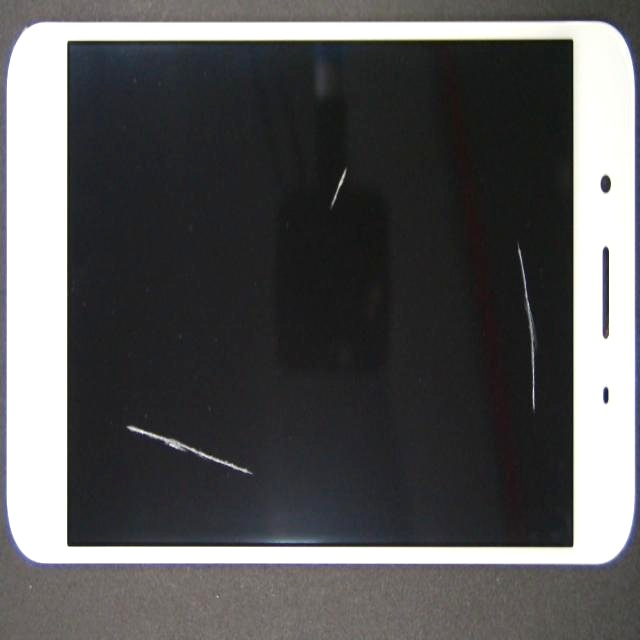scratch: (297, 274, 640, 493), (182, 60, 505, 256), (201, 256, 322, 640)
